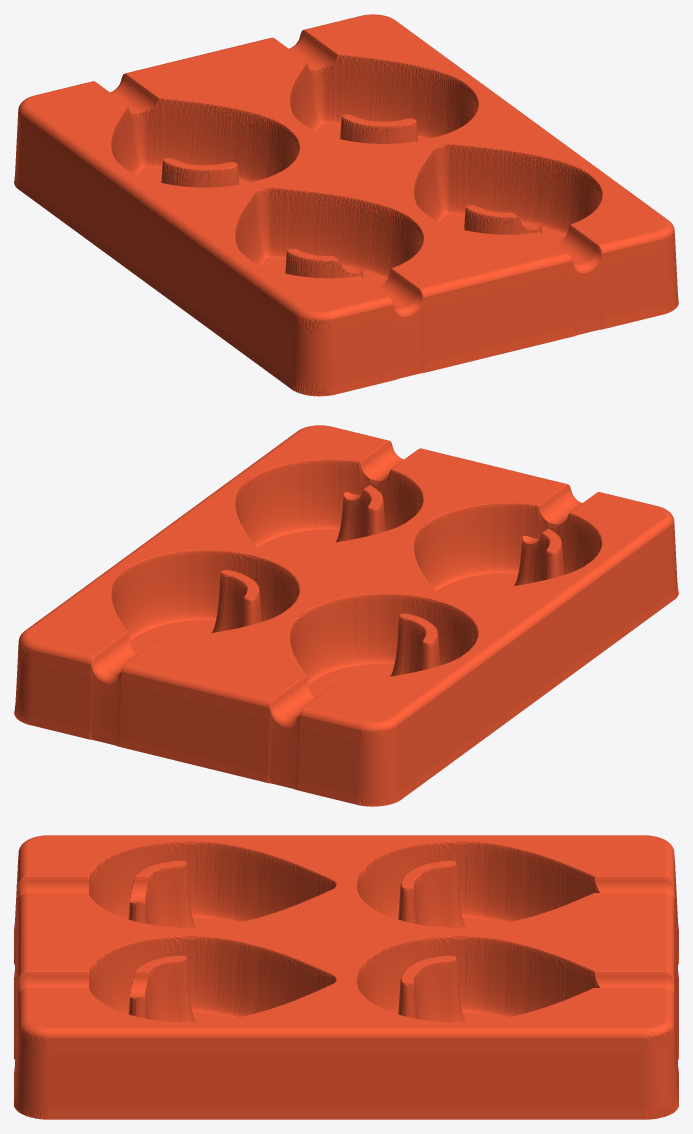
Rendered from mold.glb.
3 renders of one model, top to bottom at view 1: azimuth 30°, elevation 25°; view 2: azimuth 150°, elevation 25°; view 3: azimuth 270°, elevation 25°, orthographic. The views are drawn at different scales.
Visible parts, largest first — view 1: geometry_0; view 2: geometry_0; view 3: geometry_0.
Part boxes in pixels (box(x1,y1,x2,y2)): geometry_0: box(14, 14, 678, 396); geometry_0: box(14, 425, 678, 806); geometry_0: box(14, 835, 678, 1119).
Size of the model in its own units: 0.1236 by 0.0245 by 0.171.
